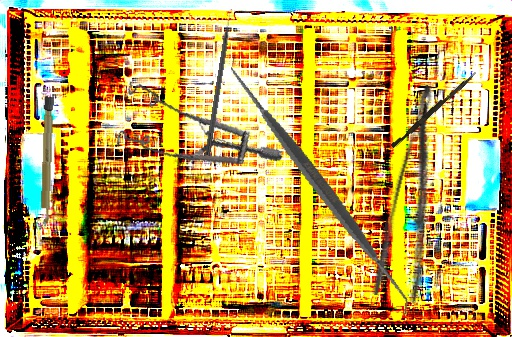Dressing Forceps: (368, 83, 470, 306)
Hook Surgical: (204, 8, 236, 157)
Pusher: (390, 68, 478, 151)
Scalpel Handle: (39, 96, 54, 228)
Spatula Surgical: (185, 56, 455, 316)
Speculum: (104, 53, 284, 195)
